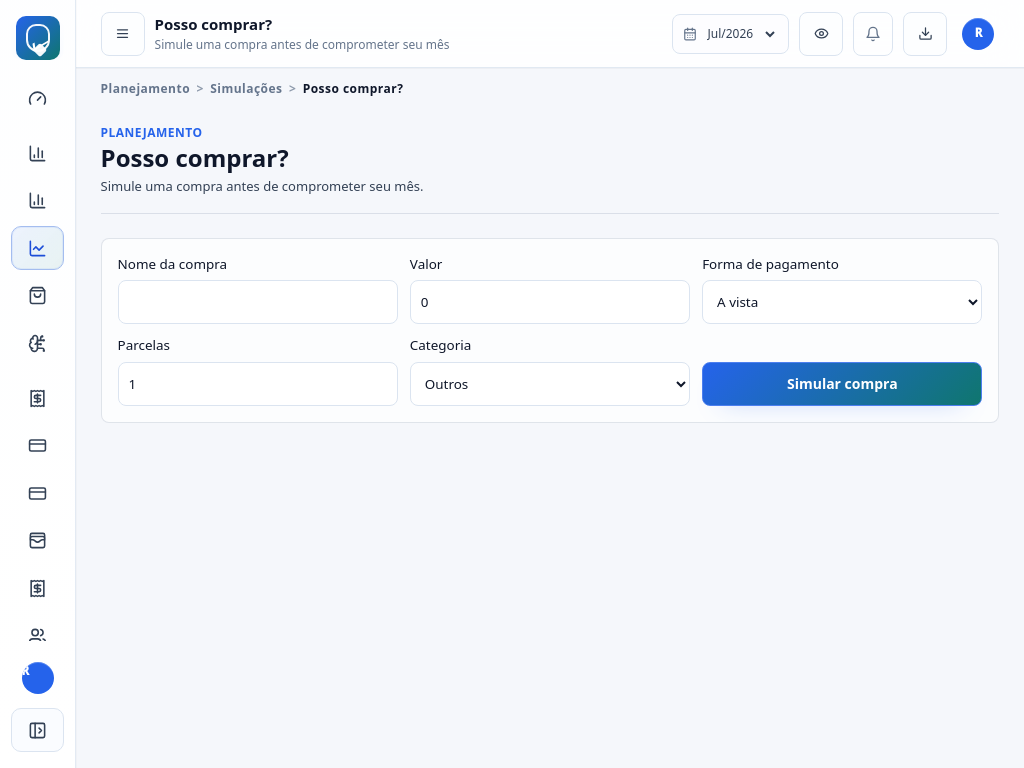
it: Release 8 planning, goals, budget and wishlist identity › simulates a purchase and keeps financial entries unchanged
The width and height of the screenshot is (1024, 768).
Type "Monitor" into the field with test id "sim-item" at (258,302), box [118,280,398,324]
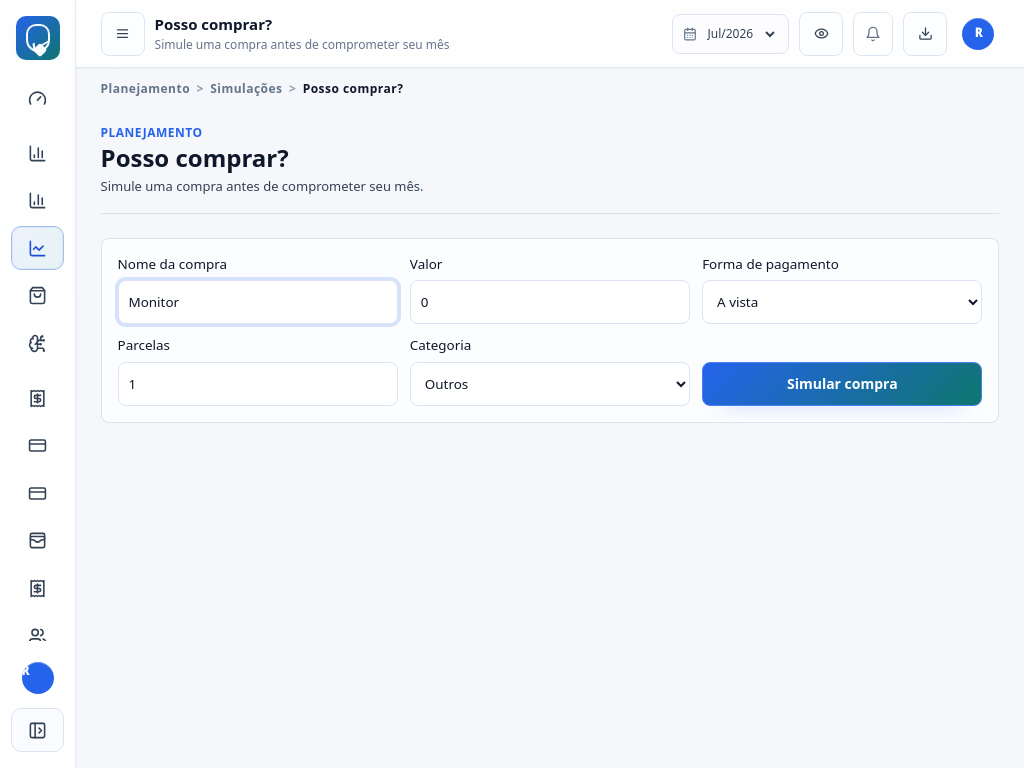
Replace the text in the number field with test id "sim-amount" with "600" at (550,302), box [410,280,690,324]
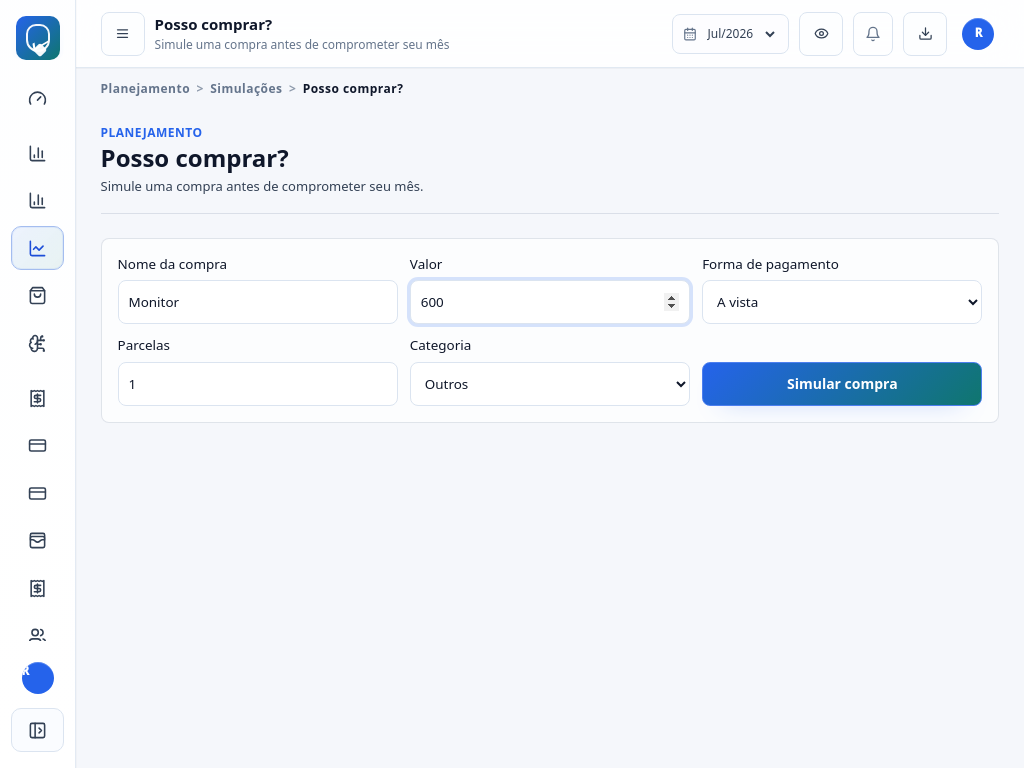
Select "Outros" in the dropdown with test id "sim-category" at (550,384), box [410,362,690,406]
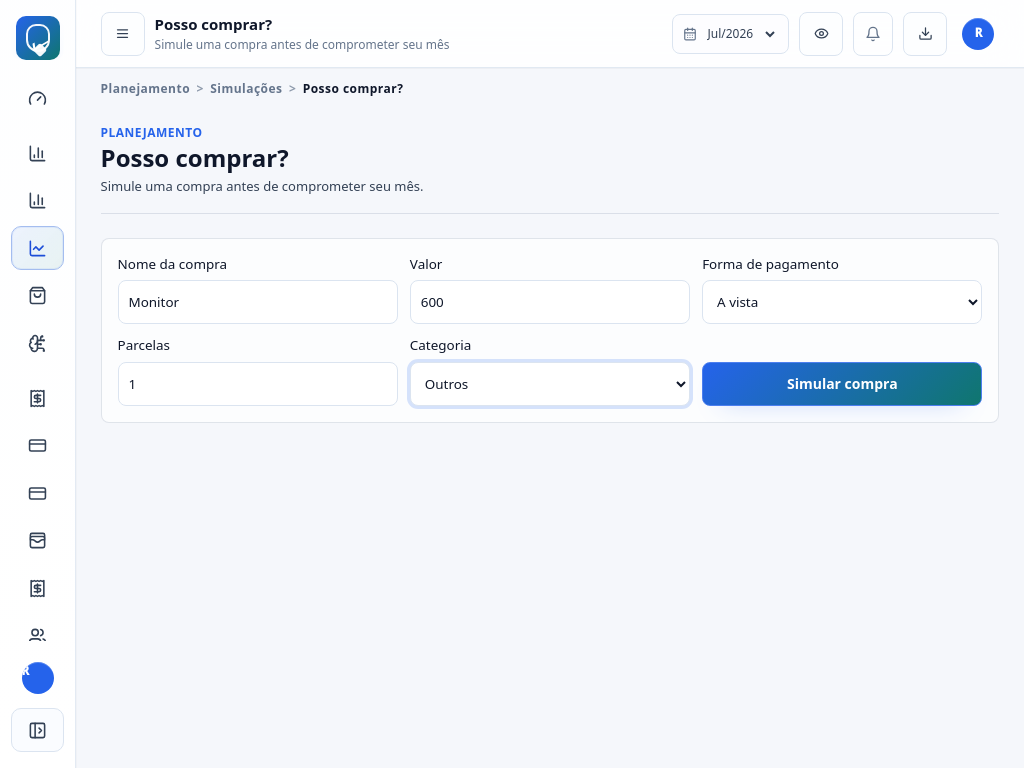
Click the button with test id "sim-submit" at (842,384), box [702,362,982,406]
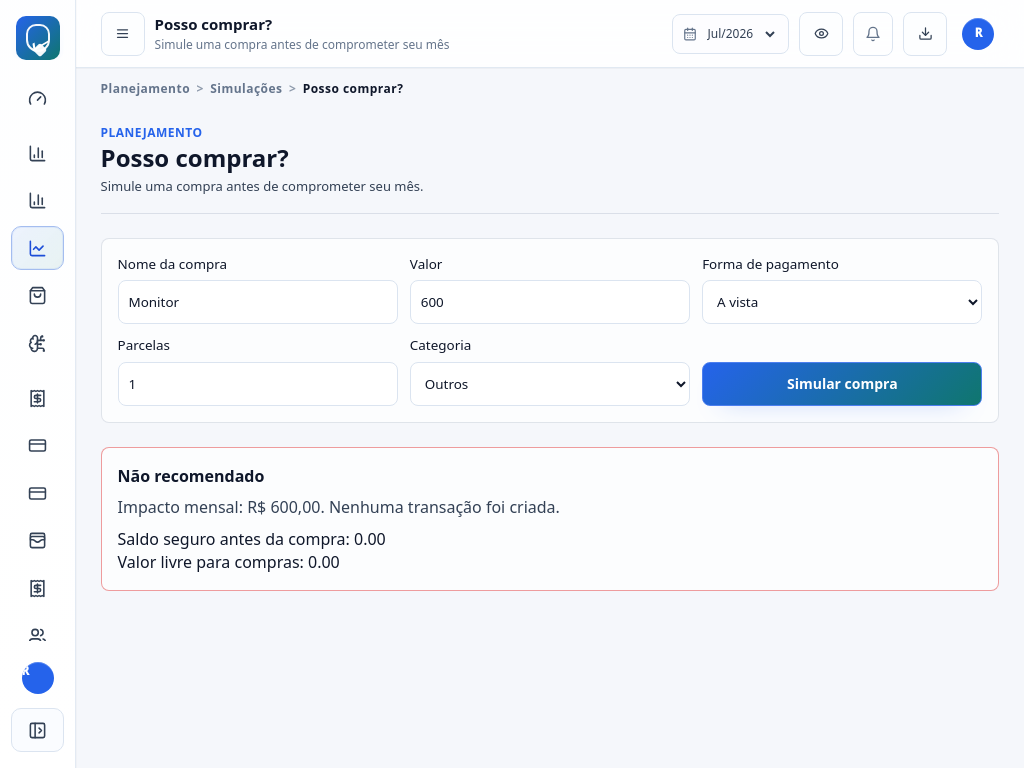
Now the element with test id "sim-result" shows "Nenhuma trans", box [101,447,1000,591]
